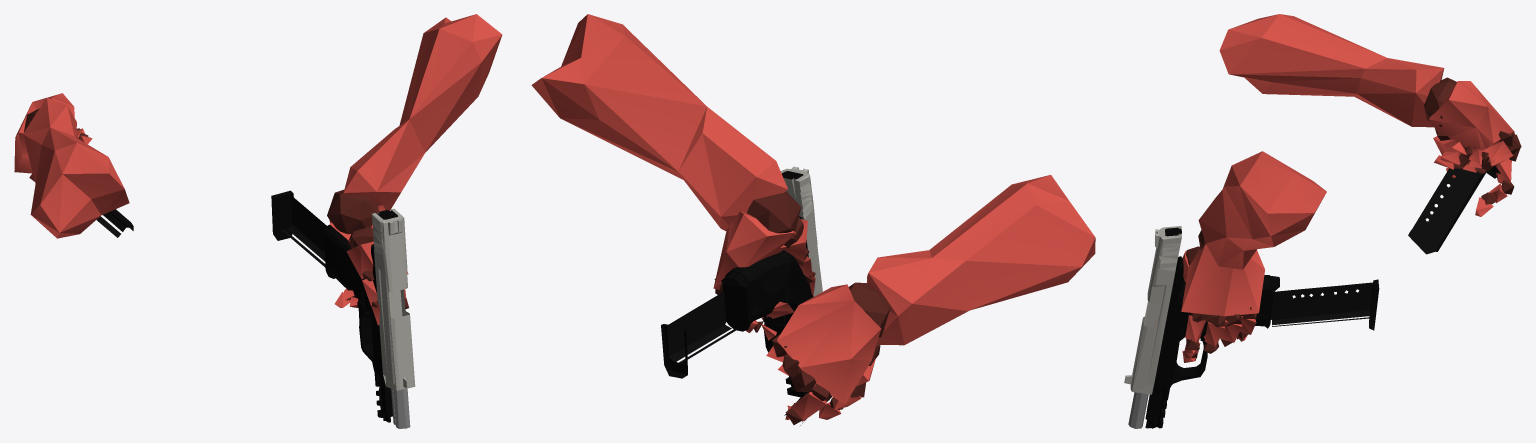
File: M&P9reloadNormal1lowP_000127.obj
3 views of the same model, side by side, from view 1: azimuth 30°, elevation 25°; view 2: azimuth 150°, elevation 25°; view 3: azimuth 270°, elevation 25° (orthographic). The views are drawn at different scales.
Parts seen in each view (by area): view 1: Beta_Surface.001_Beta_Surface.002, slide_平面.002, triger_平面.001, magazine_平面.003, Beta_Joints.001_Beta_Joints.002, magazine.002_平面.005; view 2: Beta_Surface.001_Beta_Surface.002, triger_平面.001, Beta_Joints.001_Beta_Joints.002, magazine_平面.003, slide_平面.002; view 3: Beta_Surface.001_Beta_Surface.002, triger_平面.001, slide_平面.002, magazine_平面.003, magazine.002_平面.005, Beta_Joints.001_Beta_Joints.002.
Boxes of the visible parts, <box> form: Beta_Surface.001_Beta_Surface.002: <box>14,14,502,325</box>; slide_平面.002: <box>371,208,415,390</box>; triger_平面.001: <box>323,224,410,428</box>; magazine_平面.003: <box>271,190,326,267</box>; Beta_Joints.001_Beta_Joints.002: <box>24,108,408,308</box>; magazine.002_平面.005: <box>96,209,133,237</box>; Beta_Surface.001_Beta_Surface.002: <box>531,14,1095,421</box>; triger_平面.001: <box>721,216,813,397</box>; Beta_Joints.001_Beta_Joints.002: <box>714,191,890,424</box>; magazine_平面.003: <box>661,291,739,378</box>; slide_平面.002: <box>781,166,822,296</box>; Beta_Surface.001_Beta_Surface.002: <box>1155,14,1515,362</box>; triger_平面.001: <box>1128,256,1279,428</box>; slide_平面.002: <box>1124,226,1181,394</box>; magazine_平面.003: <box>1271,279,1379,330</box>; magazine.002_平面.005: <box>1408,144,1500,254</box>; Beta_Joints.001_Beta_Joints.002: <box>1183,77,1521,358</box>.
Size of the model in its own units: 94.59 by 66.99 by 72.23.
